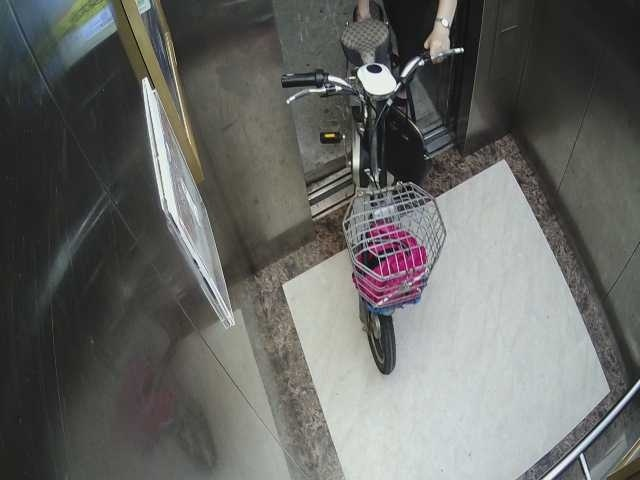emotor: (276, 3, 467, 381)
